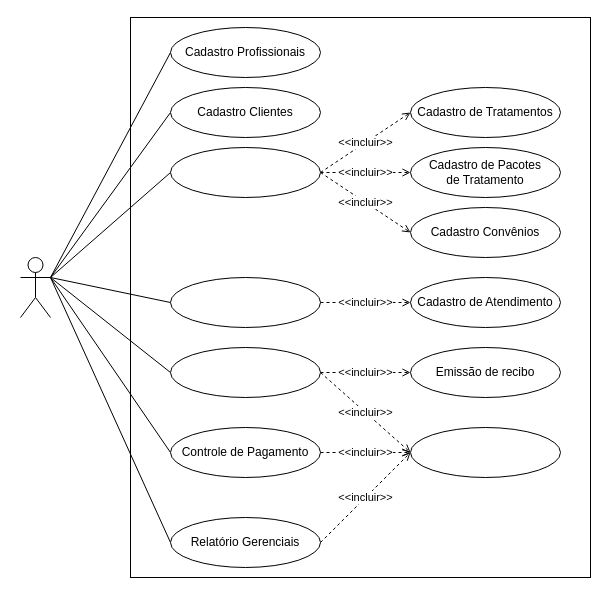
This 616x603 diagram has some shape labels left out. The shapes that lost their labels are listed below. From the top down, each one's centre as x and y in pixels, then its label:
At [245,172]: "Controle de pacotes de serviços".
At [35,287]: "Cliente".
At [245,302]: "Agenda de Atendimento".
At [245,372]: "Modulo Financeiro".
At [485,452]: "Consultas".
